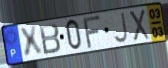0: (65, 18, 84, 53)
B: (38, 22, 62, 56)
F: (83, 14, 103, 50)
J: (113, 11, 129, 45)
X: (18, 25, 45, 60), (128, 8, 151, 42)
